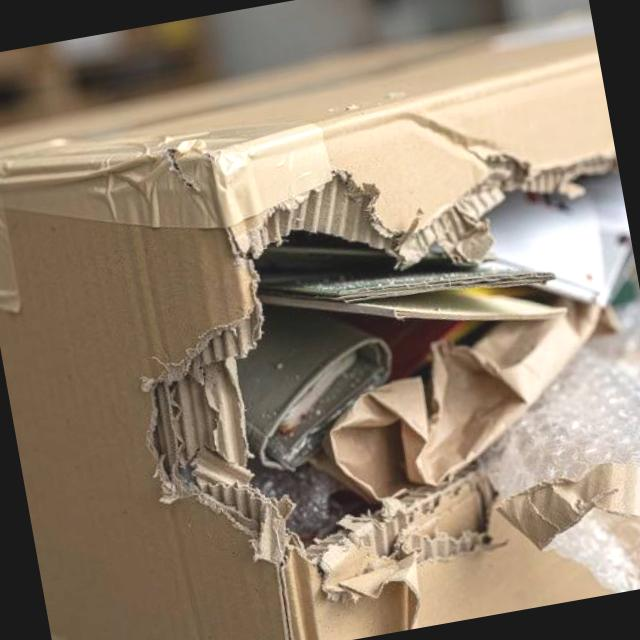carton_box: (0, 31, 640, 640)
package_damage: (87, 63, 640, 640)
